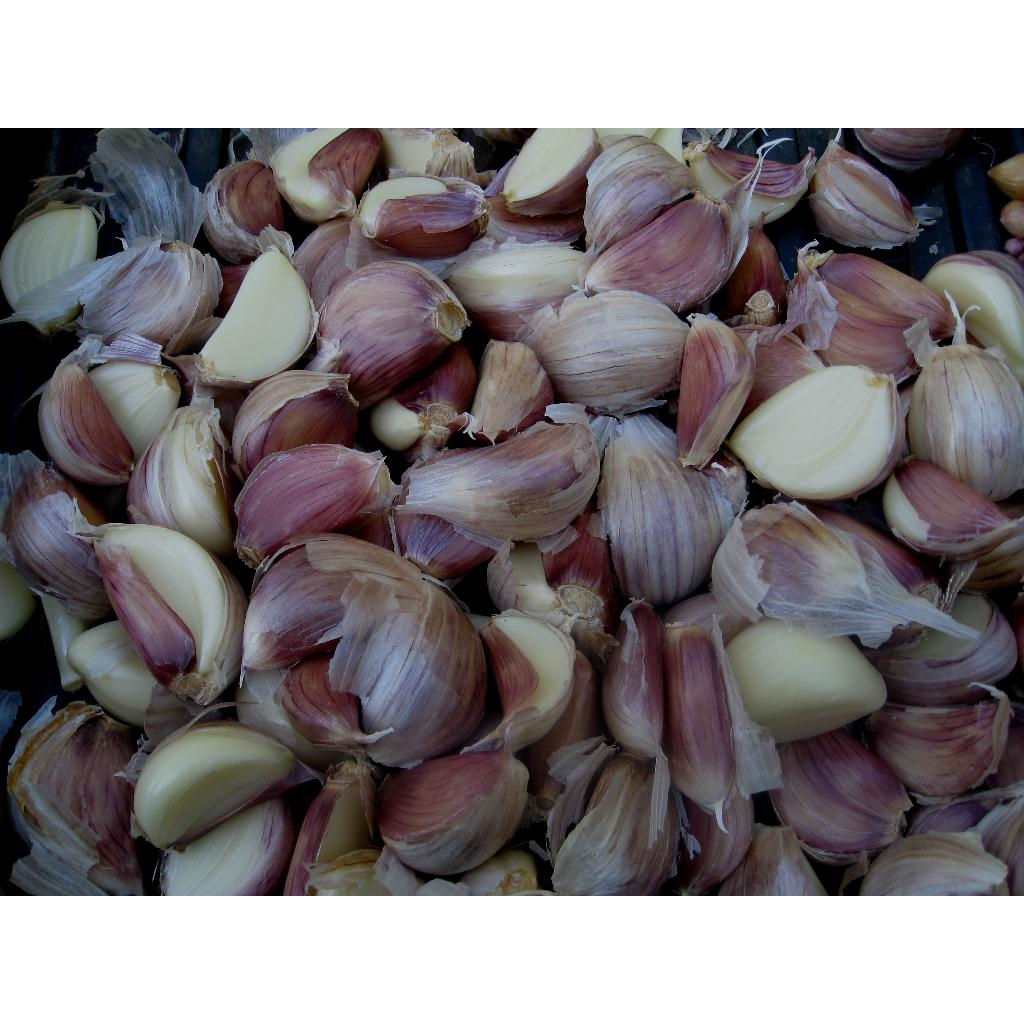garlic: (242, 536, 486, 766), (396, 404, 600, 548), (94, 524, 248, 706), (598, 414, 728, 606), (904, 292, 1024, 500), (308, 262, 468, 410), (728, 366, 904, 500), (516, 290, 690, 416), (234, 444, 396, 568), (726, 618, 886, 742), (584, 192, 734, 312), (198, 250, 316, 388), (242, 548, 352, 670), (38, 364, 134, 486), (466, 340, 554, 444)
